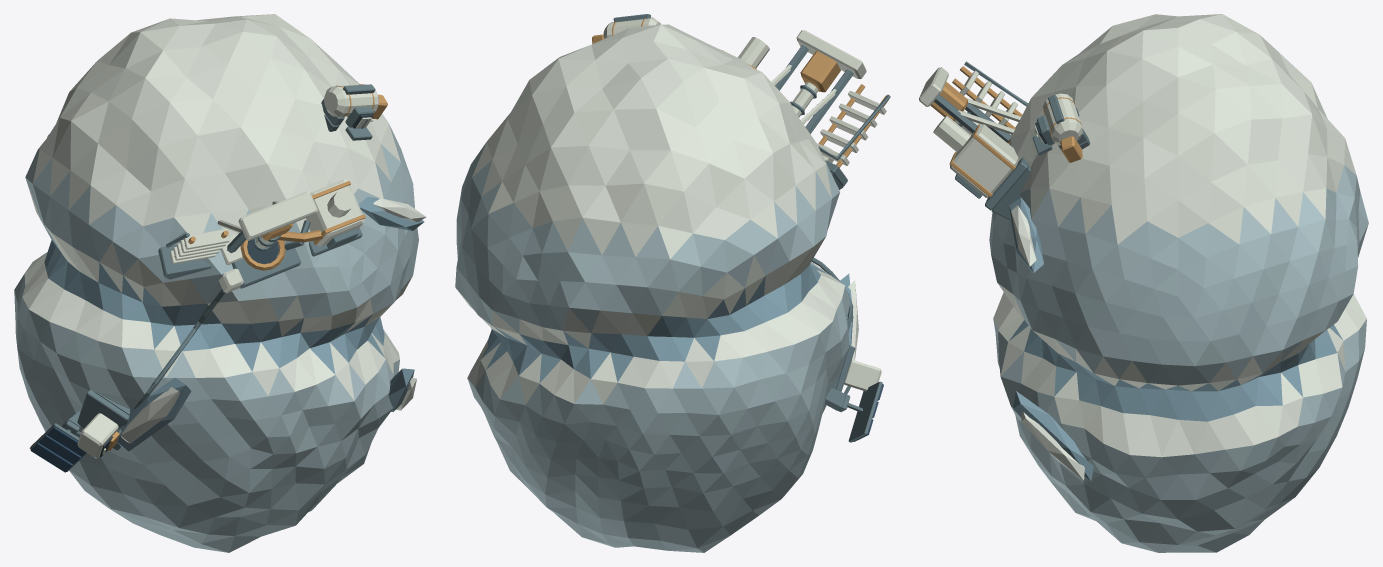
File: kuiper.glb
3 views of the same model, side by side, from view 1: azimuth 30°, elevation 25°; view 2: azimuth 150°, elevation 25°; view 3: azimuth 270°, elevation 25° (orthographic). The views are drawn at different scales.
Parts seen in each view (by area): view 1: S6_kuiper • modeled surfaces; view 2: S6_kuiper • modeled surfaces; view 3: S6_kuiper • modeled surfaces.
Boxes of the visible parts, <box> form: S6_kuiper • modeled surfaces: <box>14,14,426,552</box>; S6_kuiper • modeled surfaces: <box>455,14,890,552</box>; S6_kuiper • modeled surfaces: <box>919,14,1368,552</box>.
Size of the model in its own units: 1.26 by 1.6 by 1.27.
